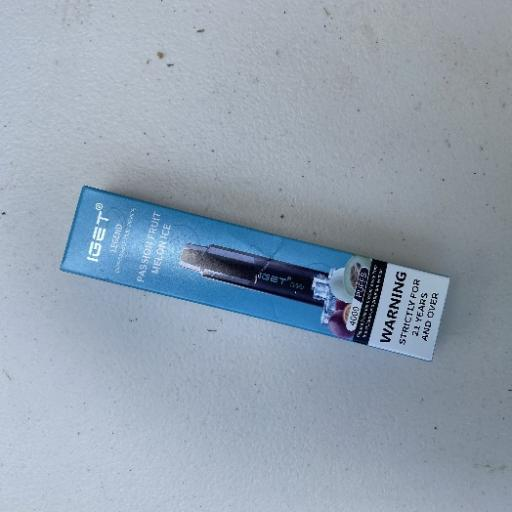Cardboard: (58, 182, 452, 364)
